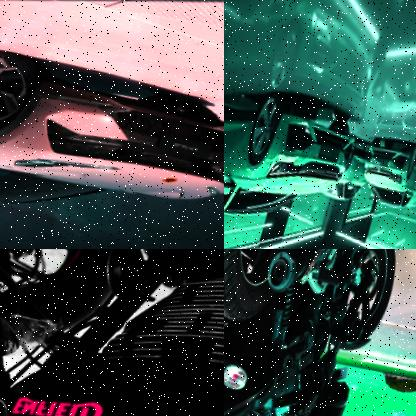bike: (0, 249, 224, 416), (224, 249, 416, 416)
car: (0, 22, 224, 249), (224, 75, 367, 244), (352, 136, 416, 217)
